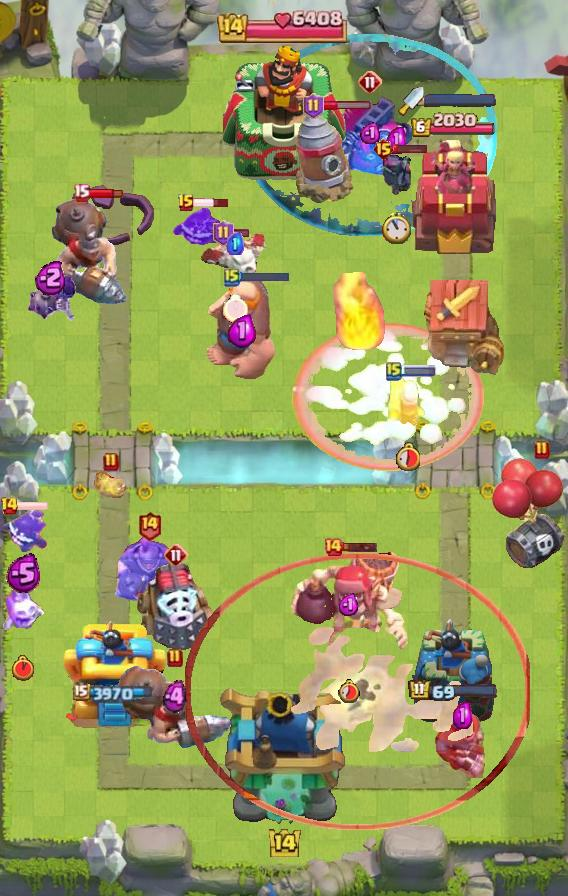balloon: (205, 273, 279, 381)
bar: (409, 138, 497, 256)
battle-ram: (379, 148, 413, 195)
clock: (217, 9, 351, 43)
electro-giant: (289, 543, 409, 653)
electro-spirit: (7, 553, 42, 595), (35, 259, 68, 295), (228, 314, 256, 348), (163, 680, 187, 714), (386, 126, 406, 154), (338, 593, 360, 617), (452, 702, 471, 729), (360, 120, 380, 143), (227, 232, 245, 255)
elixir: (382, 212, 410, 244), (396, 442, 421, 471), (224, 294, 248, 322), (12, 655, 34, 681), (338, 679, 361, 703)
emote: (238, 271, 290, 283), (320, 101, 372, 112), (193, 197, 230, 209), (12, 500, 49, 512), (342, 541, 379, 553), (400, 365, 436, 377), (89, 187, 124, 199), (392, 143, 428, 154), (230, 228, 249, 238)
goblin-ball: (24, 273, 78, 323)
golem: (134, 560, 218, 650)
ice-spirit-evolution: (94, 470, 128, 502)
inferno-tower: (322, 94, 418, 180)
king-tower: (216, 684, 352, 826), (223, 43, 345, 181)
king-tower-bar: (424, 93, 496, 107)
magic-archer: (295, 111, 355, 205)
mini-pekka: (197, 229, 273, 283)
mirror: (2, 583, 44, 633)
pad_0: (243, 34, 497, 240)
phoenix-big: (291, 320, 485, 471)
phoenix-small: (433, 714, 491, 778)
queen-tower: (60, 617, 168, 731), (409, 616, 497, 731)
royal-ghost: (186, 553, 531, 830)
royal-guardian: (114, 532, 184, 606)
royal-recruit-evolution: (490, 458, 568, 572)
selected: (410, 112, 496, 140), (408, 679, 498, 703), (73, 681, 155, 702)
sparky: (418, 279, 504, 377)
spear-goblin: (0, 505, 48, 553), (173, 207, 229, 247)
text: (138, 511, 163, 542), (358, 70, 382, 94), (164, 543, 188, 567), (372, 137, 395, 161), (304, 93, 325, 119), (213, 220, 234, 246), (323, 537, 343, 557), (1, 496, 20, 516), (177, 193, 195, 213), (73, 183, 91, 202), (224, 267, 240, 287), (386, 361, 402, 381), (534, 440, 550, 460), (103, 452, 119, 472), (167, 648, 183, 668)
tombstone: (386, 370, 428, 428)
valkyrie: (333, 269, 391, 355)
wizard: (115, 662, 235, 752), (51, 195, 131, 305)
